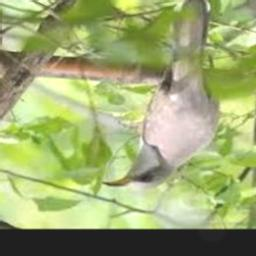Cuckoo: (102, 0, 218, 189)
